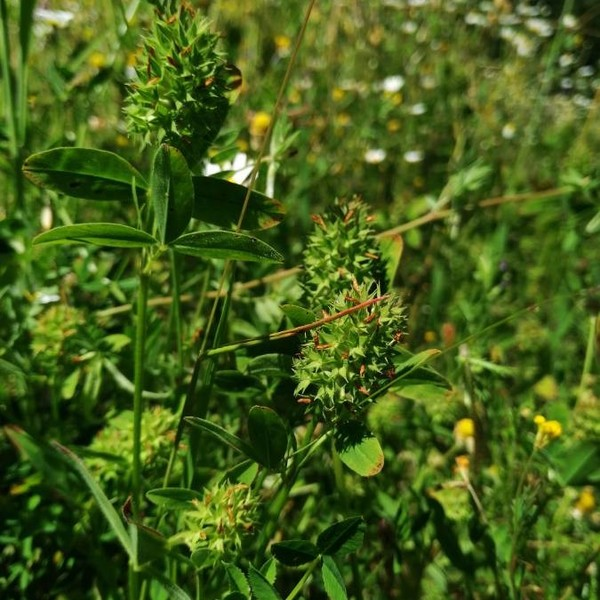obstacle: (46, 21, 418, 543)
